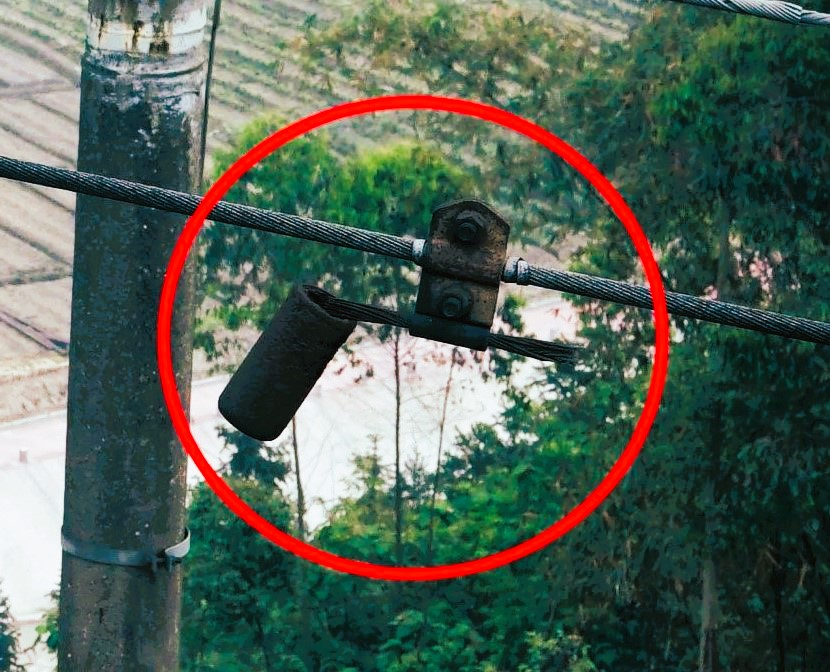Damage of shockproof hammer: (207, 184, 597, 458)
